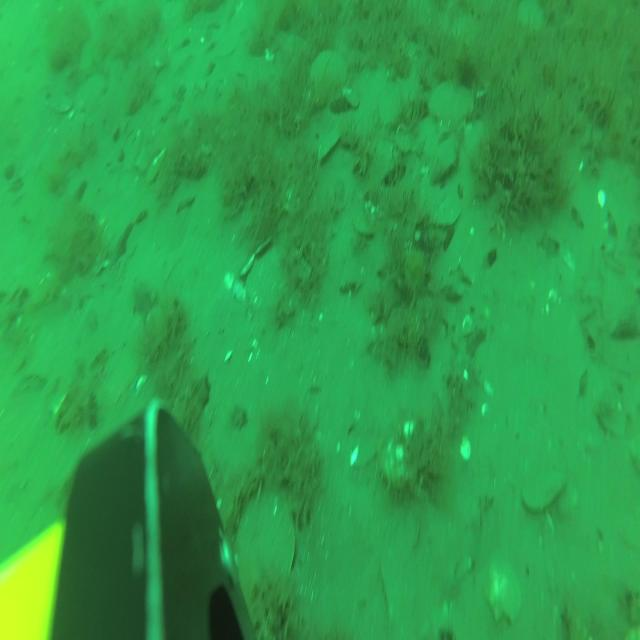scallop: (230, 485, 299, 604), (244, 244, 290, 315), (484, 550, 523, 627), (428, 75, 475, 135), (309, 46, 351, 94), (74, 74, 108, 118), (516, 1, 546, 35)
